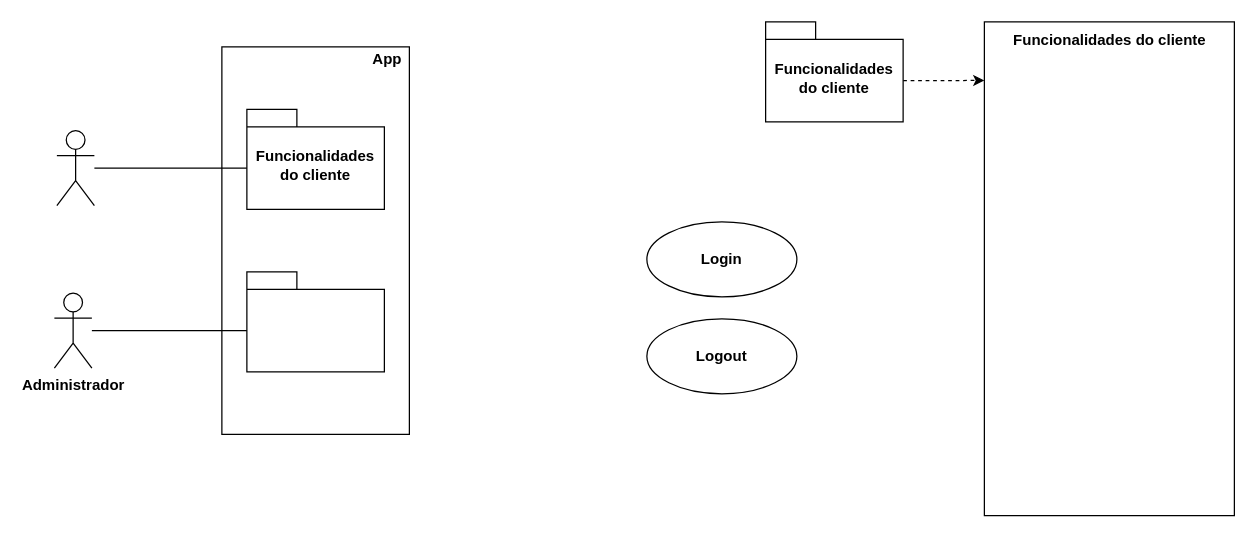
This 1256x538 diagram has some shape labels left out. Each missing label, with the centre of its shape:
"Cliente" belongs at [75,167].
"Funcionalidades do administrador" belongs at [315,321].
